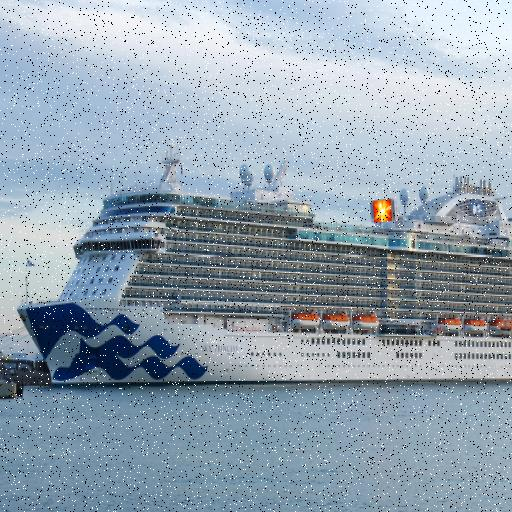cruises: (14, 143, 512, 391)
